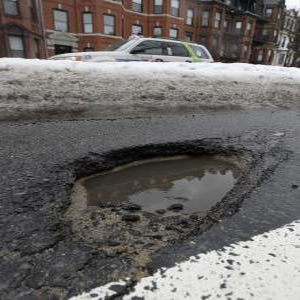pothole: (56, 135, 272, 253)
